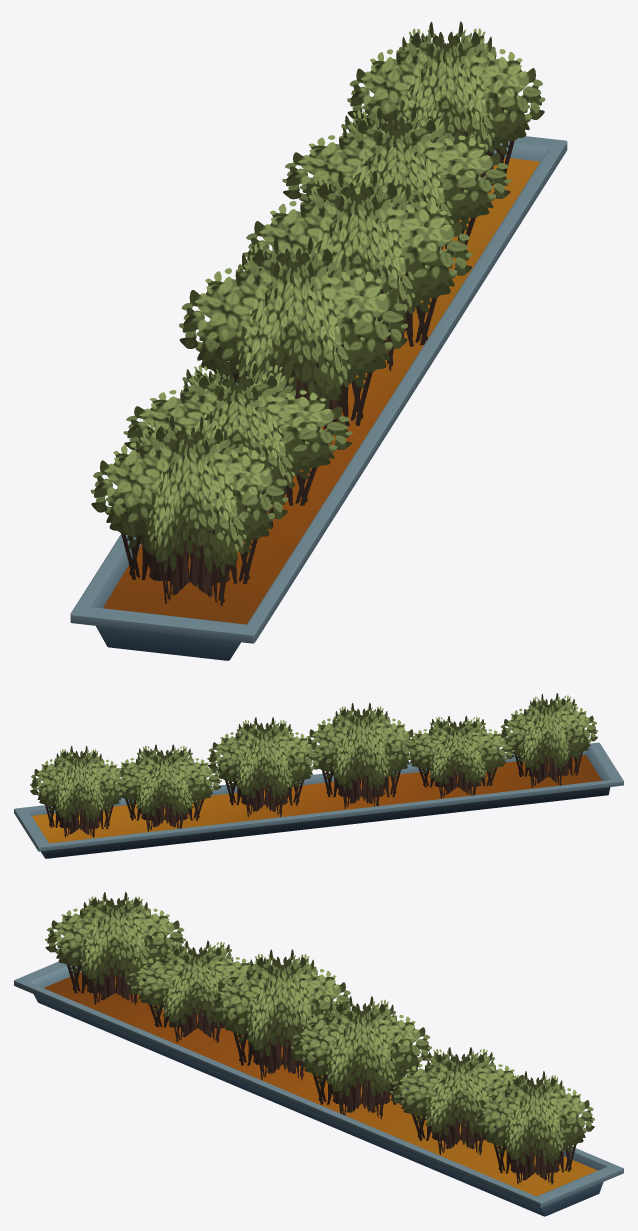
File: Vase.fbx
3 renders of one model, top to bottom at view 1: azimuth 30°, elevation 25°; view 2: azimuth 150°, elevation 25°; view 3: azimuth 270°, elevation 25°, orthographic. The views are drawn at different scales.
Visible parts, largest first — view 1: Vase_Vase, Bush_2, Bush_4, Bush_5, Bush_0, Bush_1, Bush_3; view 2: Vase_Vase, Bush_2, Bush_5, Bush_1, Bush_0, Bush_4, Bush_3; view 3: Vase_Vase, Bush_5, Bush_2, Bush_4, Bush_0, Bush_1, Bush_3.
Boxes of the visible parts, x1=… form: Vase_Vase: x1=70, y1=136, x2=567, y2=660; Bush_2: x1=179, y1=236, x2=407, y2=429; Bush_4: x1=90, y1=415, x2=288, y2=606; Bush_5: x1=244, y1=170, x2=472, y2=371; Bush_0: x1=347, y1=21, x2=545, y2=185; Bush_1: x1=282, y1=107, x2=511, y2=259; Bush_3: x1=123, y1=363, x2=352, y2=526; Vase_Vase: x1=14, y1=742, x2=623, y2=858; Bush_2: x1=306, y1=702, x2=418, y2=808; Bush_5: x1=207, y1=717, x2=321, y2=817; Bush_1: x1=115, y1=744, x2=221, y2=832; Bush_0: x1=30, y1=746, x2=128, y2=837; Bush_4: x1=500, y1=693, x2=597, y2=787; Bush_3: x1=403, y1=716, x2=514, y2=798; Vase_Vase: x1=14, y1=961, x2=623, y2=1216; Bush_5: x1=291, y1=996, x2=431, y2=1119; Bush_2: x1=211, y1=949, x2=350, y2=1080; Bush_4: x1=45, y1=892, x2=185, y2=1004; Bush_0: x1=475, y1=1071, x2=594, y2=1184; Bush_1: x1=390, y1=1047, x2=526, y2=1155; Bush_3: x1=127, y1=940, x2=251, y2=1043.
Size of the model in its own units: 10.38 by 2.42 by 10.39.
2 materials, 2 textured.
